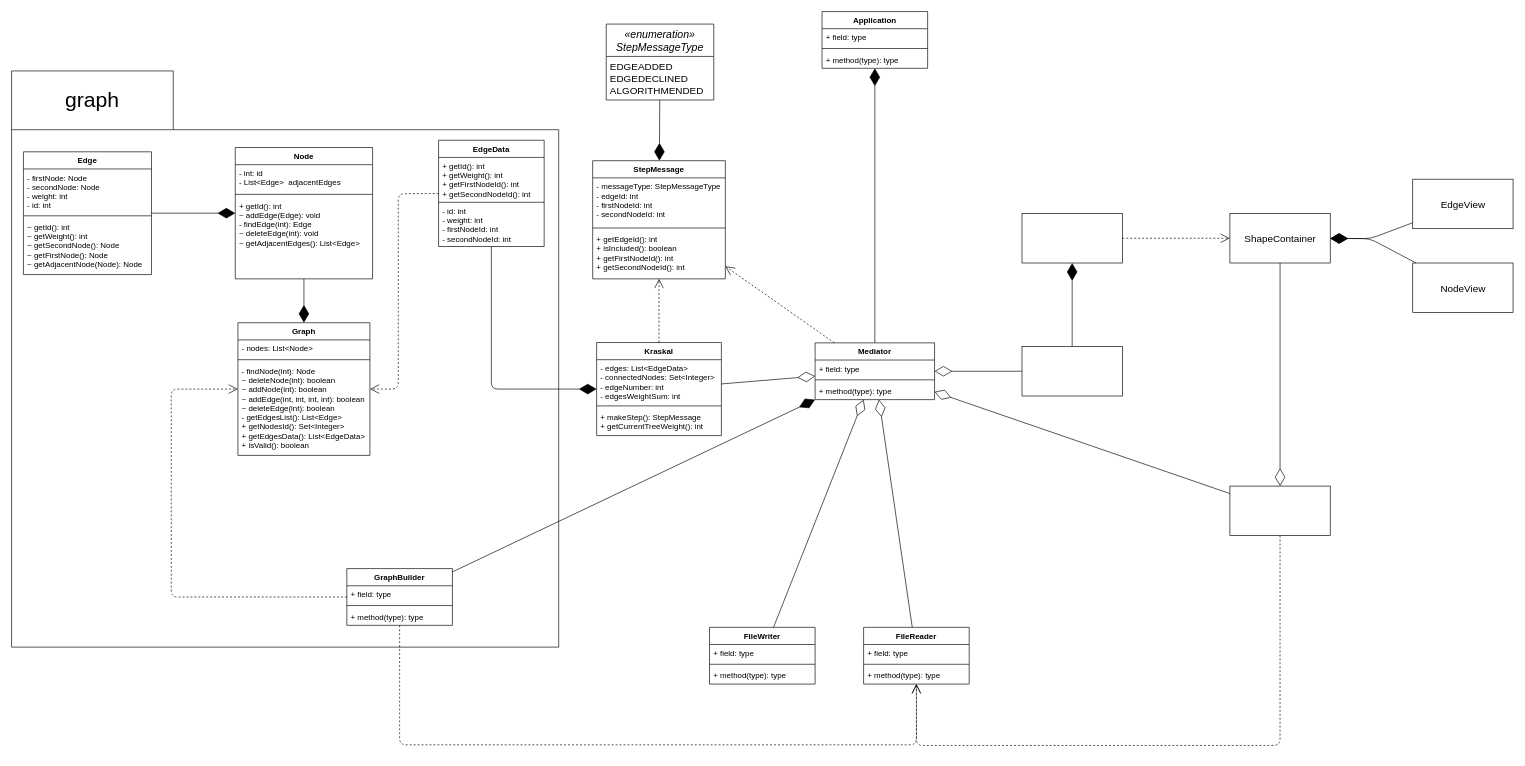
The diagram is 1525 pixels wide and 766 high, and some of its shapes have lost their labels. The centre of each missing label's shape, as x and y in pixels:
"Actioncontroller" goes at (x=1071, y=371).
"Screen" goes at (x=1071, y=238).
"ShapeController" goes at (x=1279, y=510).
